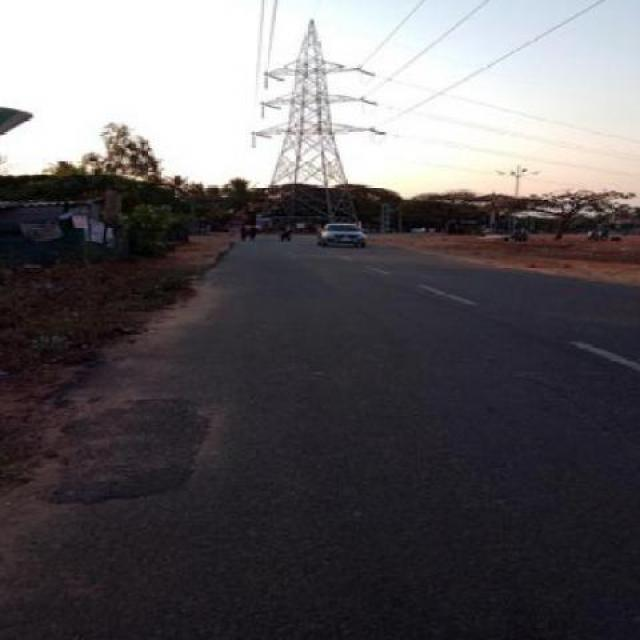Unmarked Bump: (294, 233, 316, 243), (254, 234, 278, 242)
